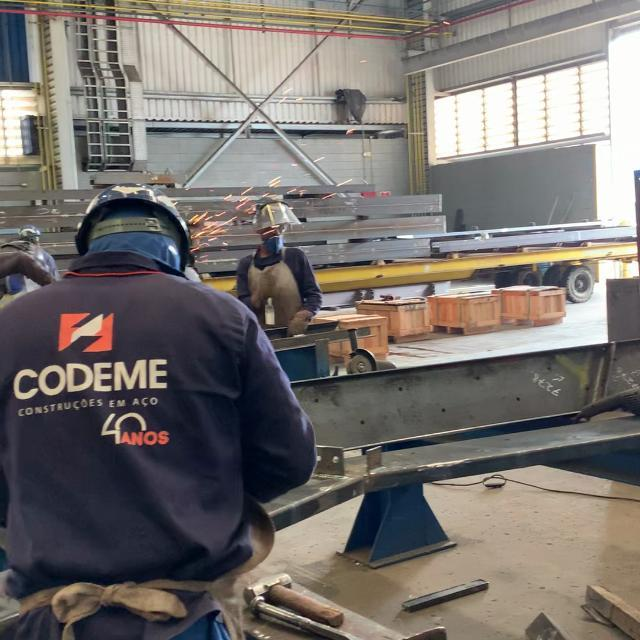eye-glass: (252, 201, 305, 235)
face-shield: (288, 310, 313, 336)
glove: (75, 184, 193, 265)
mask: (3, 183, 317, 640), (236, 200, 327, 337)
